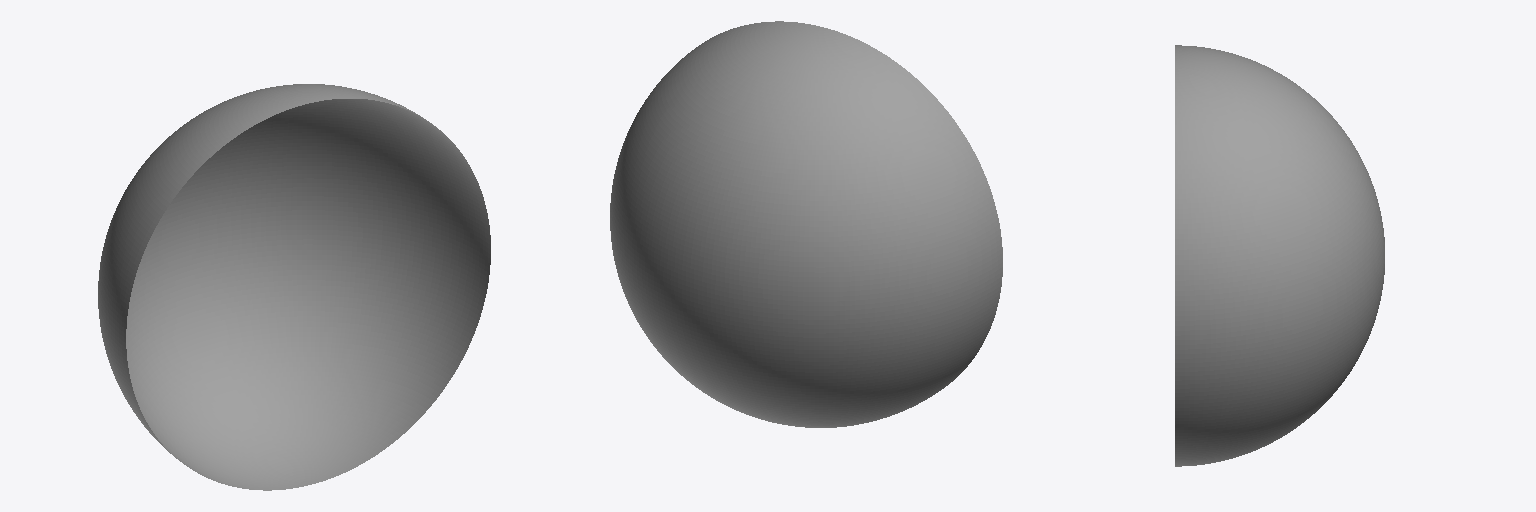
The model's file is dome.obj.
The picture shows the model from 3 angles: view 1: azimuth 30°, elevation 25°; view 2: azimuth 150°, elevation 25°; view 3: azimuth 270°, elevation 25°; orthographic projection.
Visible parts, largest first — view 1: Sphere; view 2: Sphere; view 3: Sphere.
Part boxes in pixels (bbox=[...]): Sphere: bbox=[98, 84, 490, 490]; Sphere: bbox=[610, 21, 1002, 427]; Sphere: bbox=[1175, 45, 1384, 466].
Size of the model in its own units: 2 by 2 by 1.